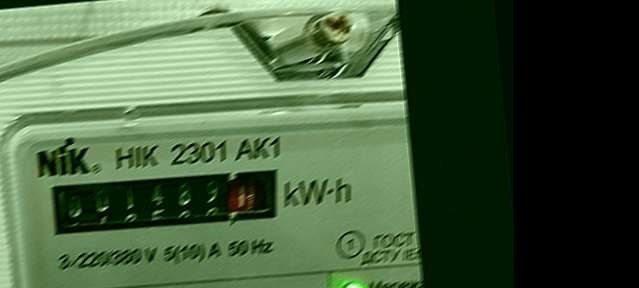0: (93, 186, 111, 212), (66, 192, 83, 218)
1: (121, 182, 138, 212), (233, 178, 248, 209)
4: (148, 180, 167, 208)
8: (174, 178, 194, 206)
9: (203, 178, 221, 204)
screen: (35, 153, 297, 252)
